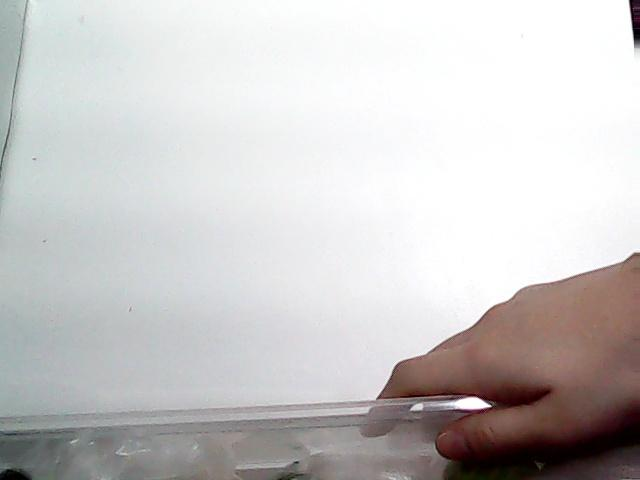radish: (278, 457, 450, 479)
